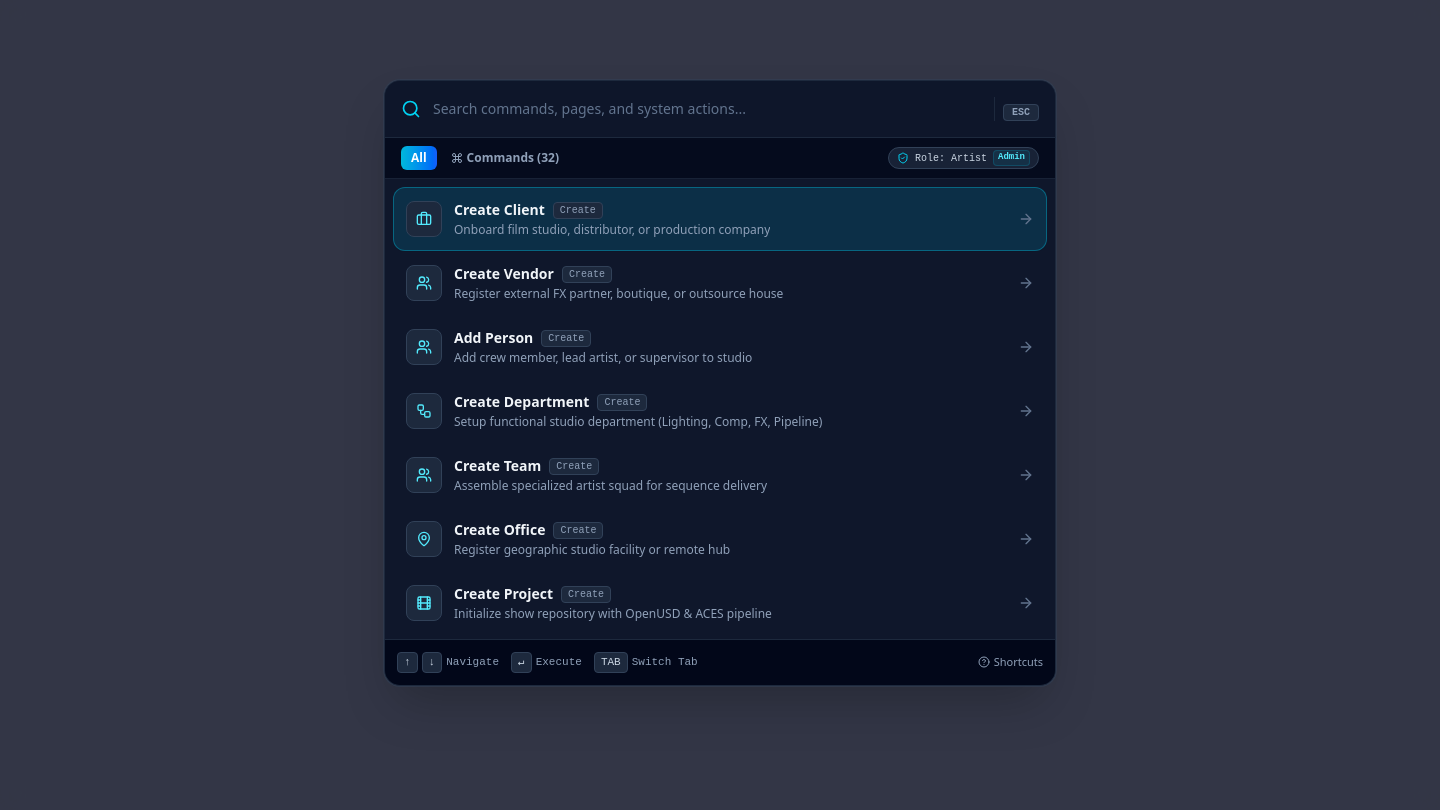
Test: CommandPalette access scoping › has no Recent Activity tab: the real feed is the audit hub, offered as a command
This screenshot has width=1440, height=810.
Step 1. Click the button "Commands (32)" → [505, 158], box [441,146,569,170]
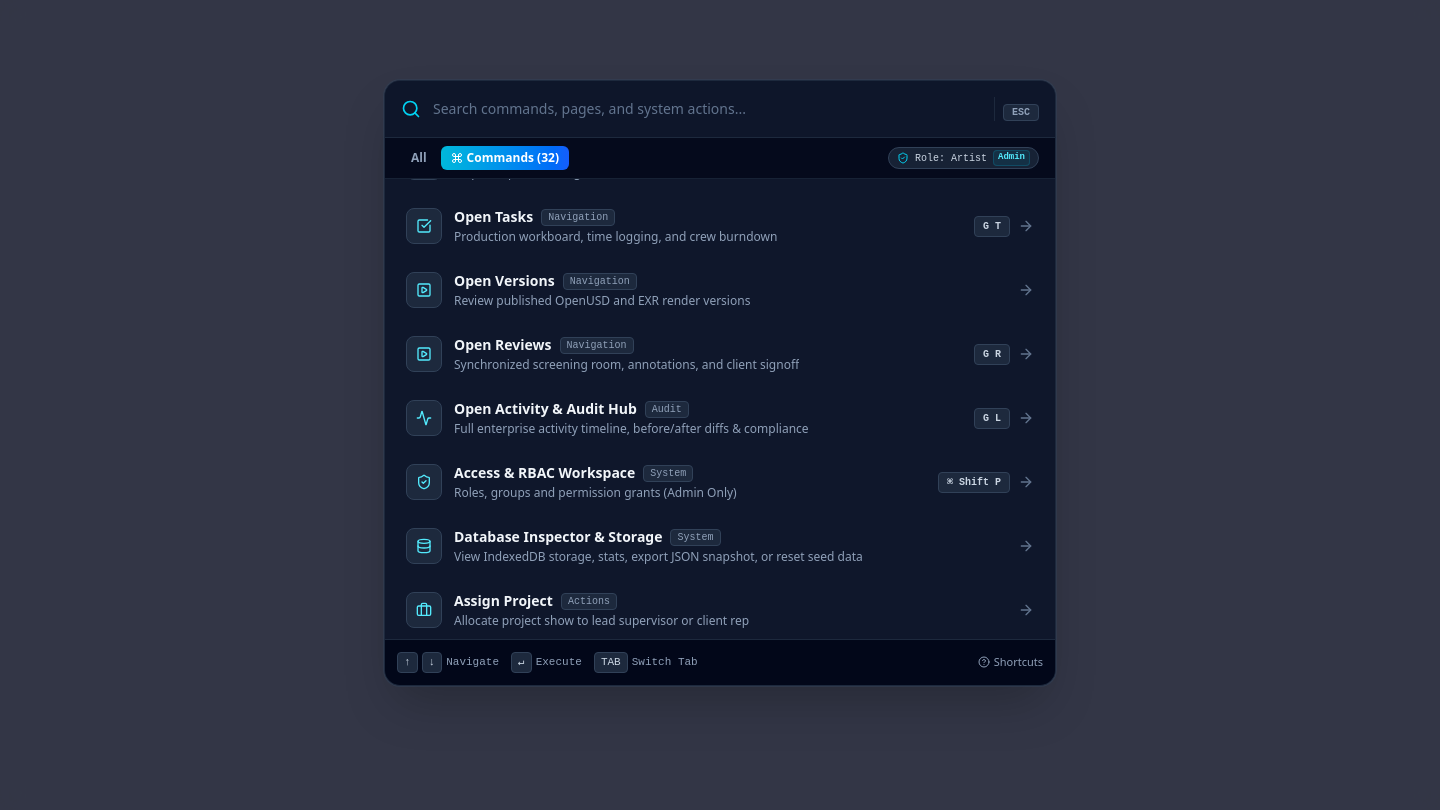
Check: the text "Open Activity & Audit Hub" is shown, box [454,399,637,419]
